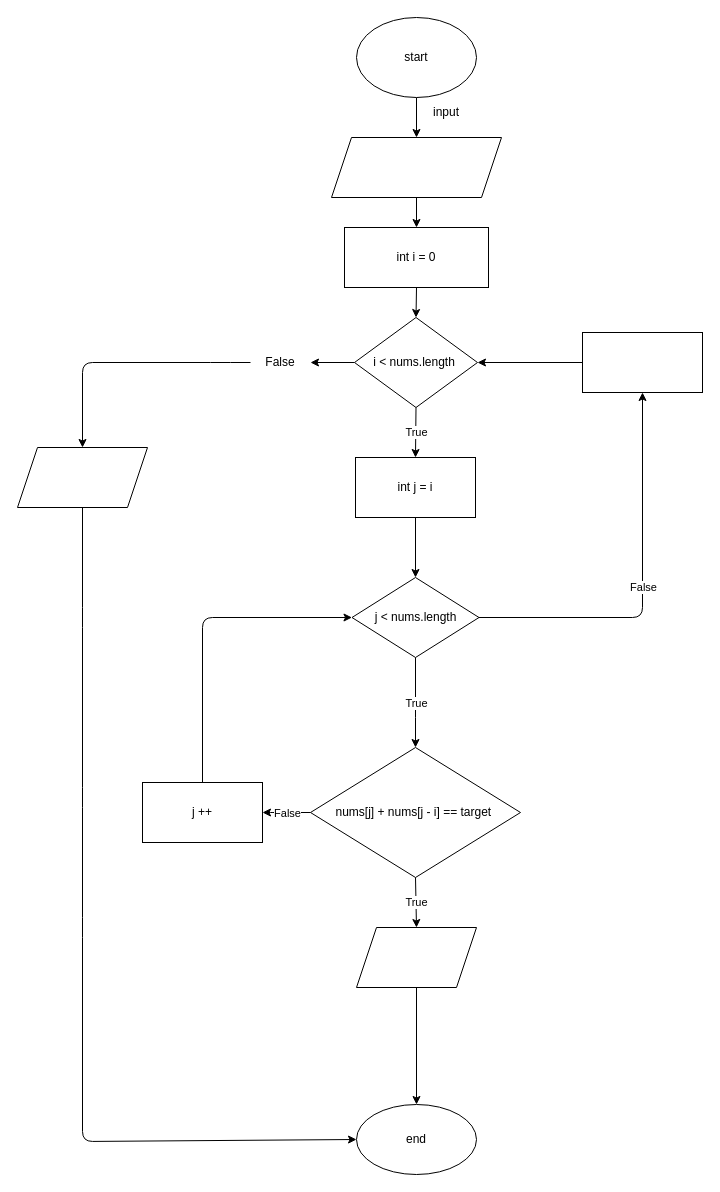
The diagram is 720 pixels wide and 1192 high, and some of its shapes have lost their labels. The centre of each missing label's shape, as x and y in pixels:
i++: pixel 642 362
int[] nums; int target;: pixel 416 167
return empty integer pair: pixel 82 477
return {j - i, j}: pixel 416 957
